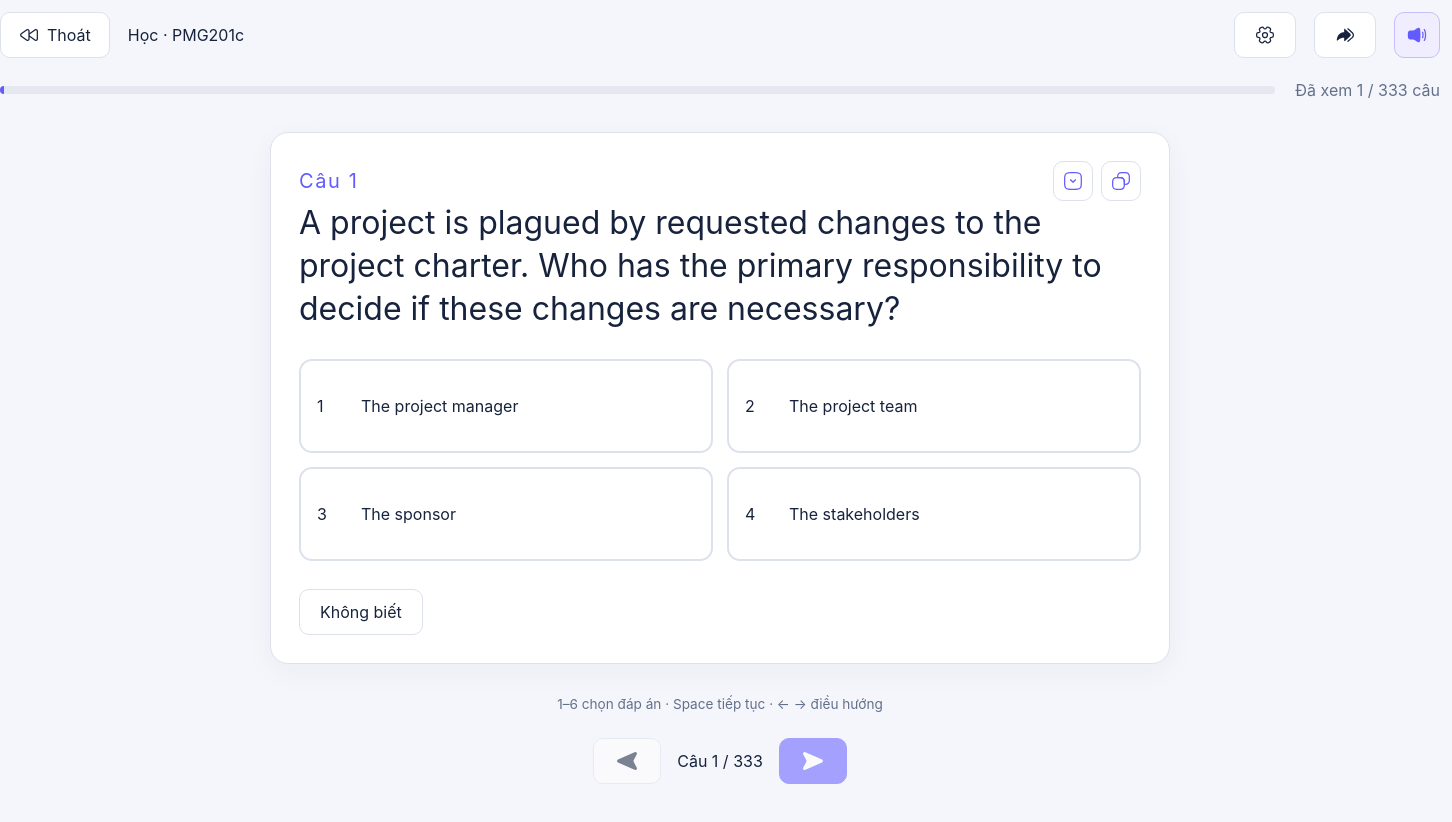
Test: PMG201c StudyShell › shows review notes only after submission
Expected: the text "Câu 1" is shown, [299, 166, 358, 196]
Expected: the text "Dữ liệu nguồn cần rà soát" is not shown
Click the button "3 The sponsor". click: (408, 514)
box: [299, 467, 713, 561]
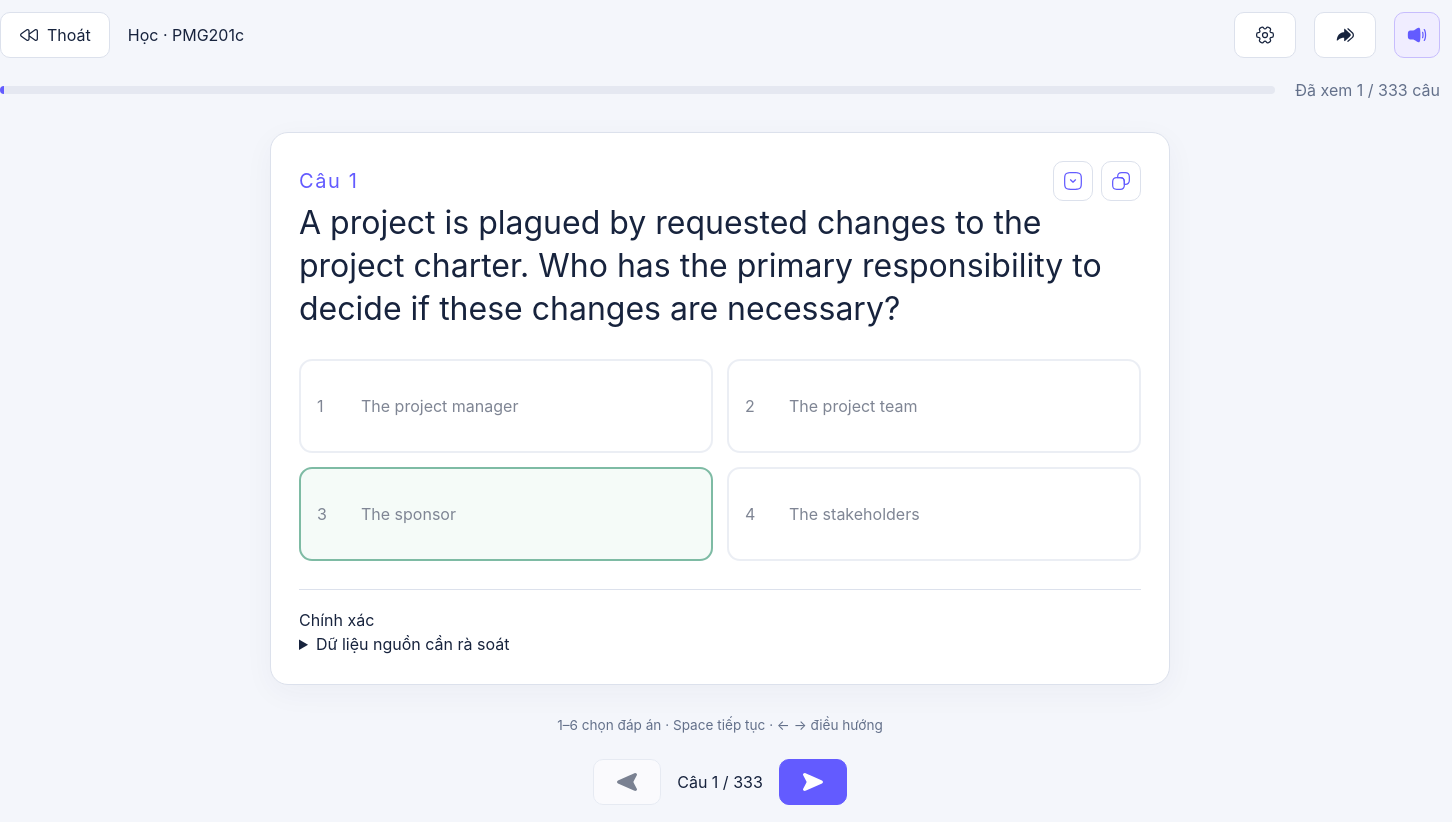
Result: the heading "Dữ liệu nguồn cần rà soát" is shown at [316, 634, 509, 654]
